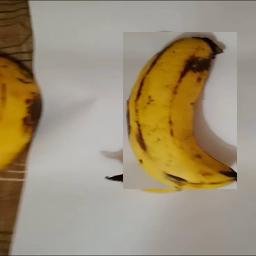Banana Semifresh: (123, 33, 237, 191)
